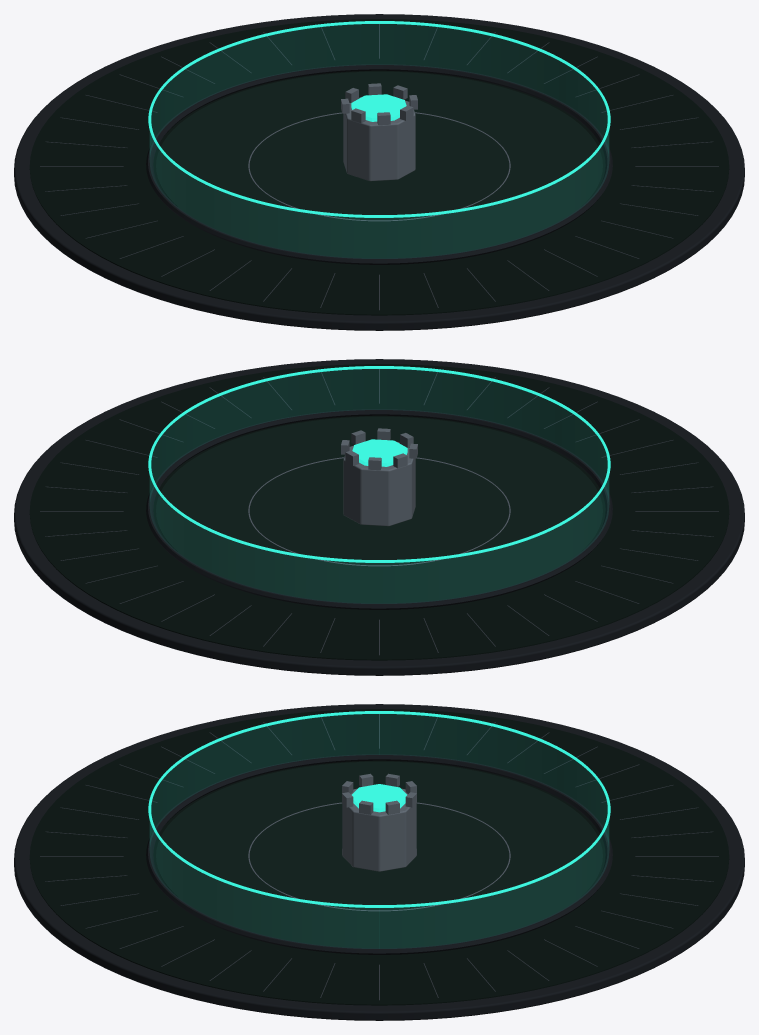
Rendered from rampart.glb.
The picture shows the model from 3 angles, top to bottom: view 1: azimuth 30°, elevation 25°; view 2: azimuth 150°, elevation 25°; view 3: azimuth 270°, elevation 25°; orthographic projection.
Visible parts, largest first — view 1: Rampart_Ground, Rampart_Court, Rampart_Plate, Rampart_WallBase, Rampart_Keep, Rampart_Rim, Rampart_Grid, Rampart_Battlements, Rampart_KeepTop, Rampart_LocalRing; view 2: Rampart_Ground, Rampart_Court, Rampart_Plate, Rampart_WallBase, Rampart_Keep, Rampart_Rim, Rampart_Grid, Rampart_Battlements, Rampart_KeepTop, Rampart_LocalRing; view 3: Rampart_Ground, Rampart_Court, Rampart_Plate, Rampart_WallBase, Rampart_Keep, Rampart_Rim, Rampart_Grid, Rampart_Battlements, Rampart_KeepTop, Rampart_LocalRing.
Part boxes in pixels (x1,y1,x2,y2): Rampart_Ground: (29,19,729,315); Rampart_Court: (156,71,602,258); Rampart_Plate: (14,14,744,330); Rampart_WallBase: (146,64,612,264); Rampart_Keep: (343,96,415,181); Rampart_Rim: (148,21,610,217); Rampart_Grid: (40,24,718,310); Rampart_Battlements: (341,83,417,125); Rampart_KeepTop: (351,94,406,121); Rampart_LocalRing: (248,112,510,221); Rampart_Ground: (29,364,729,660); Rampart_Court: (156,416,602,603); Rampart_Plate: (14,359,744,675); Rampart_WallBase: (146,409,612,609); Rampart_Keep: (343,441,415,526); Rampart_Rim: (148,366,610,562); Rampart_Grid: (40,369,718,655); Rampart_Battlements: (341,428,417,470); Rampart_KeepTop: (352,439,407,466); Rampart_LocalRing: (248,457,510,566); Rampart_Ground: (29,709,729,1005); Rampart_Court: (156,761,602,948); Rampart_Plate: (14,704,744,1020); Rampart_WallBase: (146,754,612,954); Rampart_Keep: (342,788,416,871); Rampart_Rim: (148,711,610,907); Rampart_Grid: (40,714,718,1000); Rampart_Battlements: (342,773,416,814); Rampart_KeepTop: (352,784,406,812); Rampart_LocalRing: (248,802,510,911).
Size of the model in its own units: 7 by 0.82 by 7.
